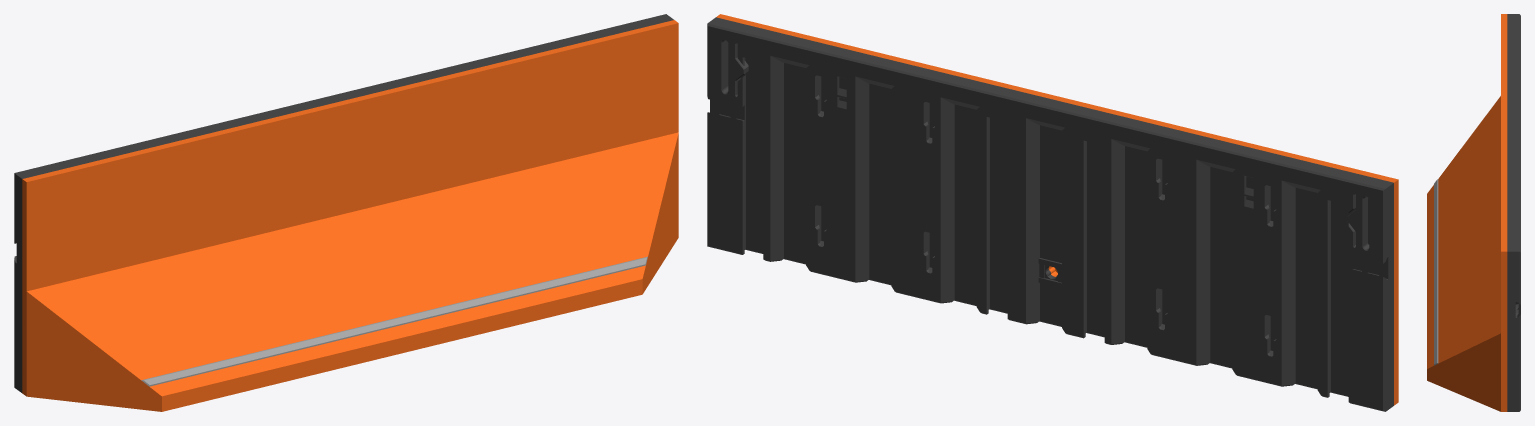
Rendered from Faceplate_ClassicDecor_2W-1H.lib.glb.
The picture shows the model from 3 angles, left to right: view 1: azimuth 30°, elevation 25°; view 2: azimuth 150°, elevation 25°; view 3: azimuth 270°, elevation 25°; orthographic projection. The views are drawn at different scales.
Visible parts, largest first — view 1: Faceplate_ClassicDecor_2W-1H; view 2: Faceplate_ClassicDecor_2W-1H; view 3: Faceplate_ClassicDecor_2W-1H.
Part boxes in pixels (x1,y1,x2,y2): Faceplate_ClassicDecor_2W-1H: [14, 14, 678, 411]; Faceplate_ClassicDecor_2W-1H: [707, 14, 1398, 411]; Faceplate_ClassicDecor_2W-1H: [1427, 14, 1520, 411].
Size of the model in its own units: 175 by 54.99 by 29.2.
